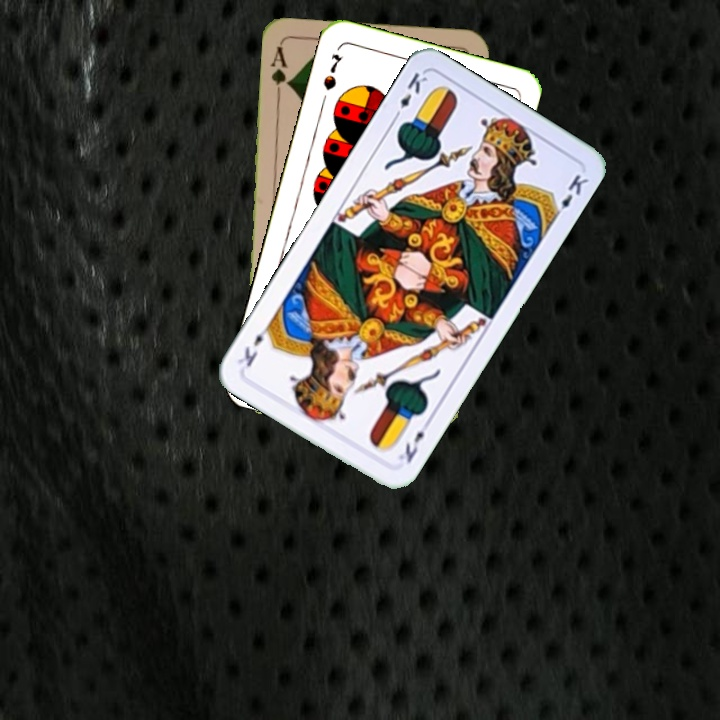EK: (389, 68, 430, 123), (395, 415, 434, 466)
GA: (267, 42, 293, 101)
S7: (319, 49, 345, 93)
